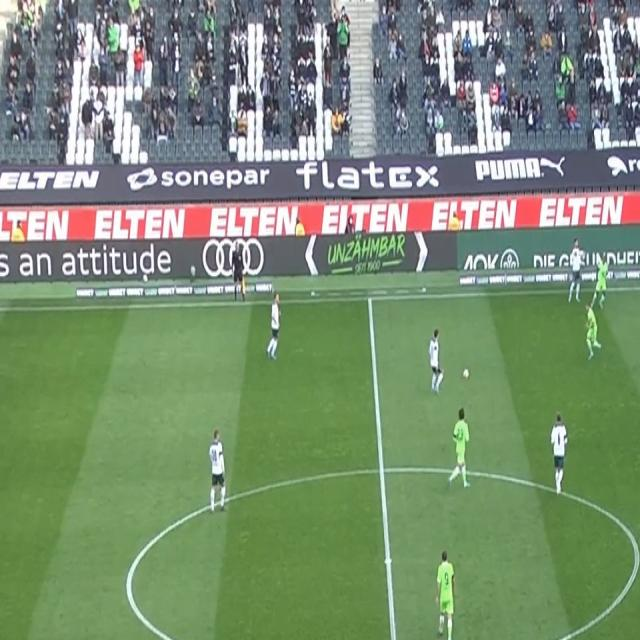ball: (462, 366, 471, 381)
